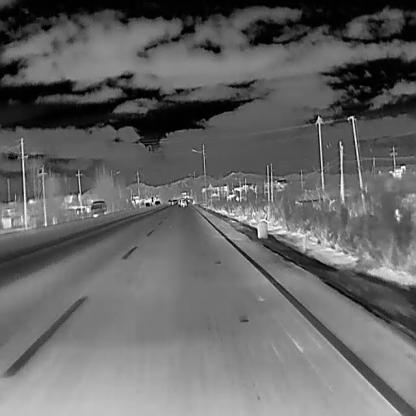car: (88, 199, 106, 218), (180, 198, 187, 206), (154, 200, 161, 205), (145, 202, 150, 206)
